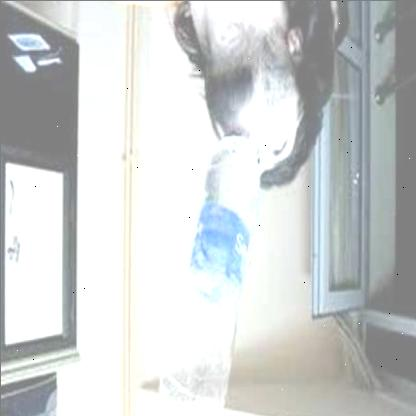Plastic Bottle: (160, 134, 258, 416)
